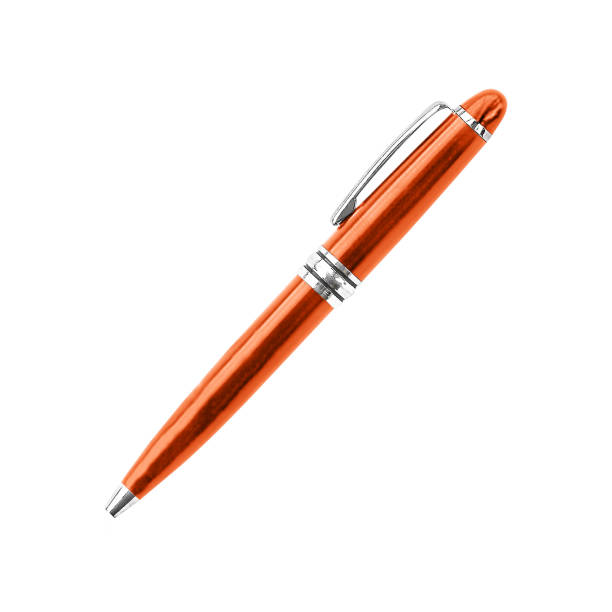pen: (93, 78, 519, 524)
